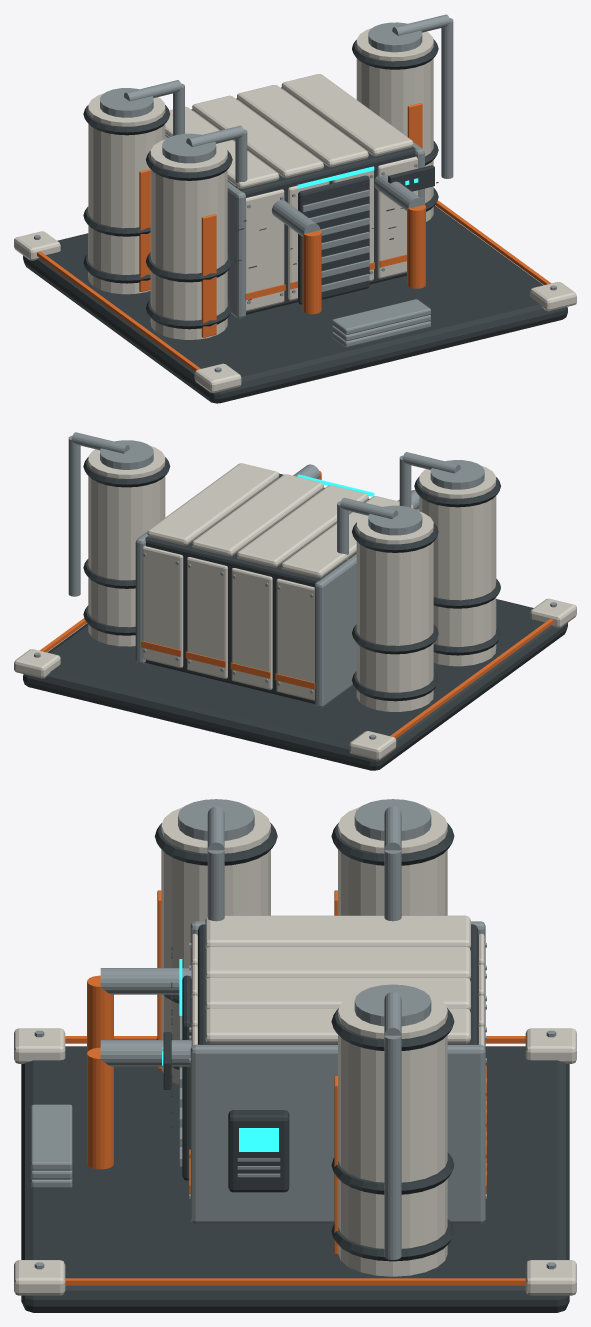
Rendered from SM_PressureSystemsPlant_Body.fbx.
3 views of the same model, one above another, from view 1: azimuth 30°, elevation 25°; view 2: azimuth 150°, elevation 25°; view 3: azimuth 270°, elevation 25° (orthographic). The views are drawn at different scales.
Visible parts, largest first — view 1: SM_PressureSystemsPlant_Body; view 2: SM_PressureSystemsPlant_Body; view 3: SM_PressureSystemsPlant_Body.
Part boxes in pixels (left/top/right/bottom): SM_PressureSystemsPlant_Body: left=14, top=14, right=576, bottom=403; SM_PressureSystemsPlant_Body: left=14, top=432, right=576, bottom=770; SM_PressureSystemsPlant_Body: left=14, top=799, right=576, bottom=1312.
Size of the model in its own units: 503 by 462 by 267.
